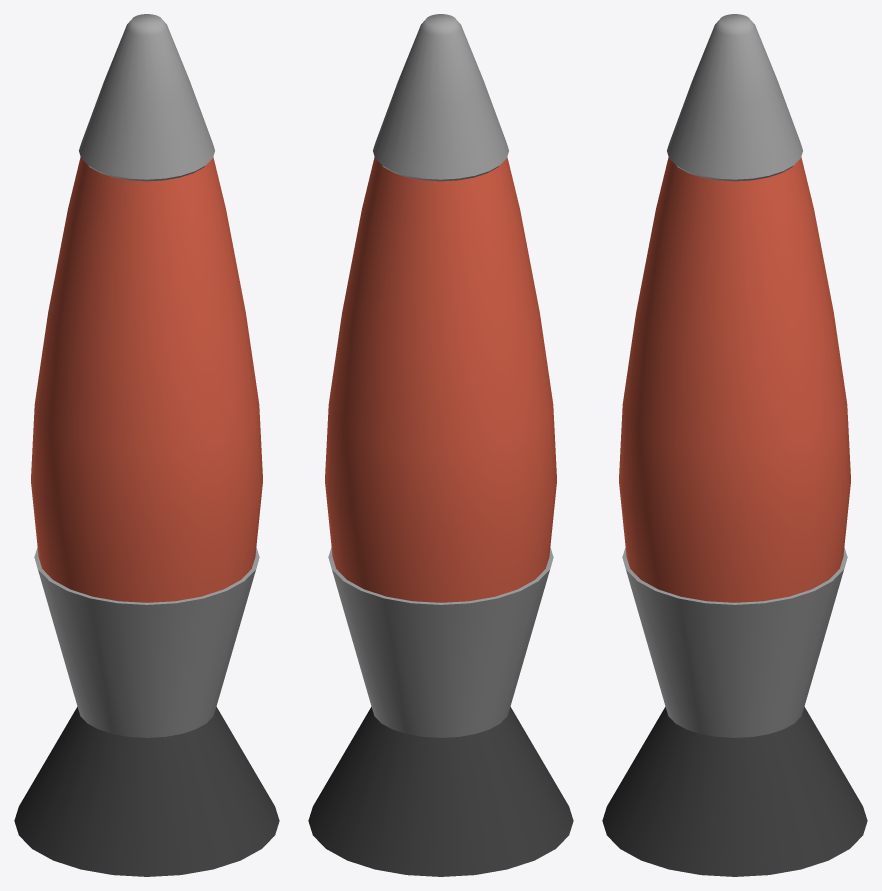
File: Lavalamp.fbx
3 views of the same model, side by side, from view 1: azimuth 30°, elevation 25°; view 2: azimuth 150°, elevation 25°; view 3: azimuth 270°, elevation 25° (orthographic).
Visible parts, largest first — view 1: Cylinder.025; view 2: Cylinder.025; view 3: Cylinder.025.
Part boxes in pixels (x1,y1,x2,y2): Cylinder.025: [14, 14, 279, 876]; Cylinder.025: [308, 14, 573, 876]; Cylinder.025: [602, 14, 867, 876].
Size of the model in its own units: 27.02 by 89.95 by 27.02.
